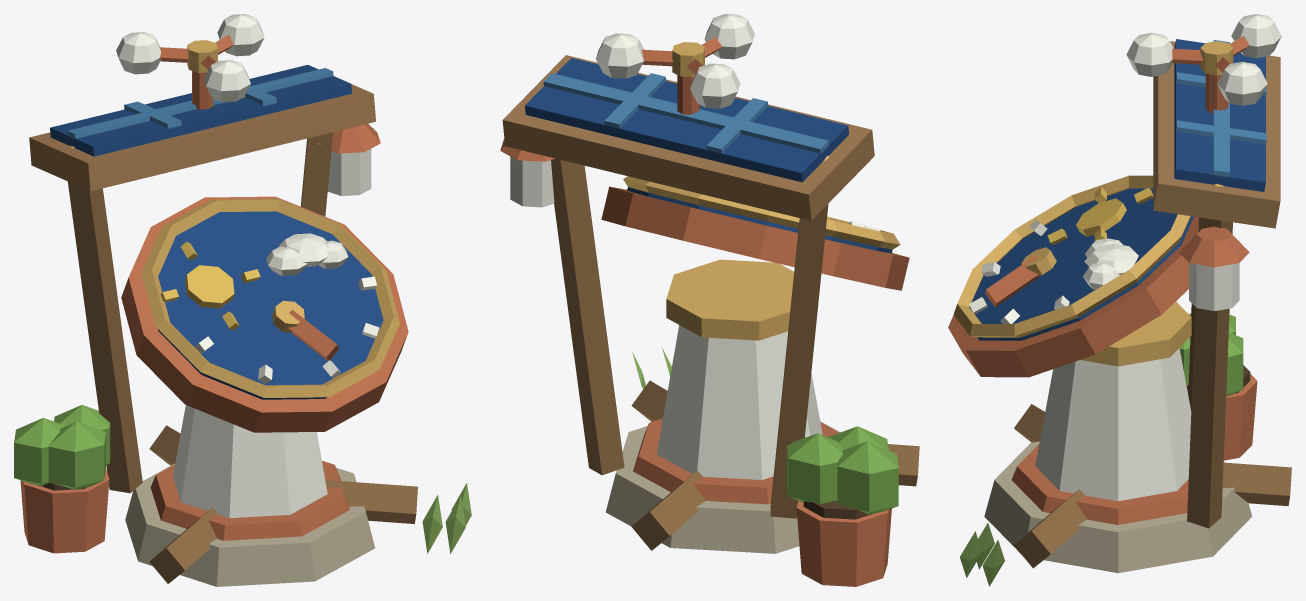
The model's file is weather_station.glb.
3 renders of one model, left to right at view 1: azimuth 30°, elevation 25°; view 2: azimuth 150°, elevation 25°; view 3: azimuth 270°, elevation 25°, orthographic. The views are drawn at different scales.
Visible parts, largest first — view 1: Dial_face, Dial_outer, Ceramic_pedestal, Solar_canopy_timber_frame, Stone_foundation, Canopy_upright, Dial_rim, Solar_canopy_blue_glass, move_spin_anemometer, Copper_plinth, decor_Terracotta_planter, decor_Living_leaves.002 (+18 smaller); view 2: Ceramic_pedestal, Solar_canopy_timber_frame, Solar_canopy_blue_glass, Canopy_upright.001, Dial_outer, Brass_neck, Stone_foundation, Canopy_upright, move_spin_anemometer, decor_Terracotta_planter, Solar_canopy_cell_separator.002, Copper_plinth (+13 smaller); view 3: Ceramic_pedestal, Stone_foundation, Dial_face, Dial_outer, Solar_canopy_timber_frame, Canopy_upright.001, Dial_rim, Solar_canopy_blue_glass, move_spin_anemometer, Copper_plinth, Brass_neck, Timber_foot (+16 smaller).
Boxes of the visible parts, left/top/right/bottom form: Dial_face: left=158, top=211, right=383, bottom=399; Dial_outer: left=121, top=196, right=408, bottom=432; Ceramic_pedestal: left=173, top=405, right=327, bottom=518; Solar_canopy_timber_frame: left=29, top=84, right=375, bottom=191; Stone_foundation: left=125, top=463, right=374, bottom=586; Canopy_upright: left=67, top=181, right=142, bottom=493; Dial_rim: left=141, top=198, right=399, bottom=397; Solar_canopy_blue_glass: left=50, top=65, right=352, bottom=156; move_spin_anemometer: left=116, top=14, right=264, bottom=102; Copper_plinth: left=150, top=460, right=349, bottom=540; decor_Terracotta_planter: left=20, top=469, right=109, bottom=553; decor_Living_leaves.002: left=48, top=421, right=105, bottom=489; Ceramic_pedestal: left=657, top=325, right=822, bottom=479; Solar_canopy_timber_frame: left=502, top=55, right=874, bottom=220; Solar_canopy_blue_glass: left=525, top=58, right=848, bottom=182; Canopy_upright.001: left=551, top=158, right=624, bottom=475; Dial_outer: left=601, top=186, right=909, bottom=290; Brass_neck: left=666, top=259, right=794, bottom=340; Stone_foundation: left=606, top=421, right=840, bottom=553; Canopy_upright: left=770, top=204, right=828, bottom=518; move_spin_anemometer: left=596, top=14, right=754, bottom=108; decor_Terracotta_planter: left=796, top=501, right=891, bottom=586; Solar_canopy_cell_separator.002: left=543, top=73, right=828, bottom=153; Copper_plinth: left=633, top=418, right=839, bottom=504; Ceramic_pedestal: left=1035, top=348, right=1191, bottom=501; Stone_foundation: left=984, top=441, right=1252, bottom=573; Dial_face: left=969, top=188, right=1193, bottom=340; Dial_outer: left=948, top=216, right=1198, bottom=377; Solar_canopy_timber_frame: left=1153, top=41, right=1280, bottom=228; Canopy_upright.001: left=1187, top=217, right=1232, bottom=528; Dial_rim: left=953, top=175, right=1190, bottom=337; Solar_canopy_blue_glass: left=1174, top=39, right=1265, bottom=191; move_spin_anemometer: left=1126, top=14, right=1281, bottom=105; Copper_plinth: left=1011, top=444, right=1188, bottom=524; Brass_neck: left=1080, top=301, right=1191, bottom=366; Timber_foot: left=1222, top=462, right=1291, bottom=506.
Size of the model in its own units: 1.73 by 2.09 by 1.36.
